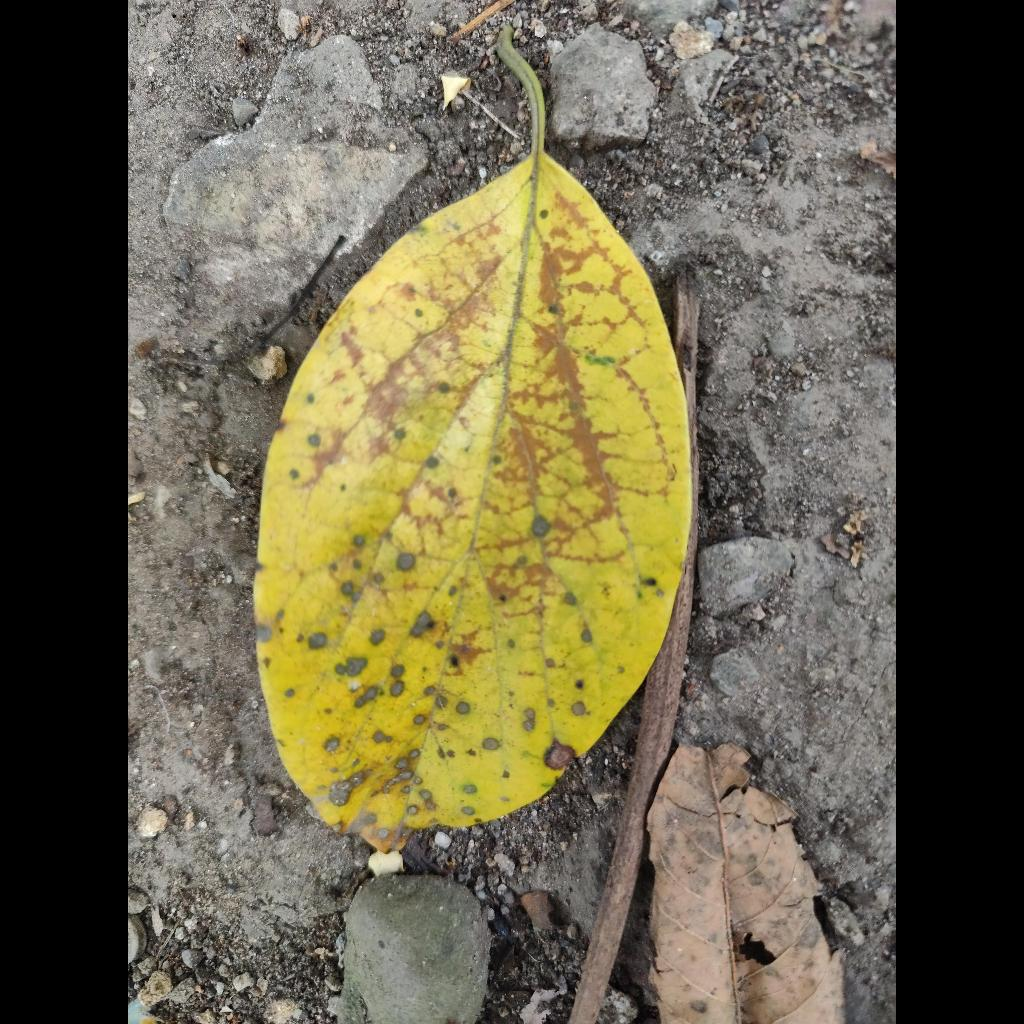nutrient_deficiency: (255, 28, 692, 851)
